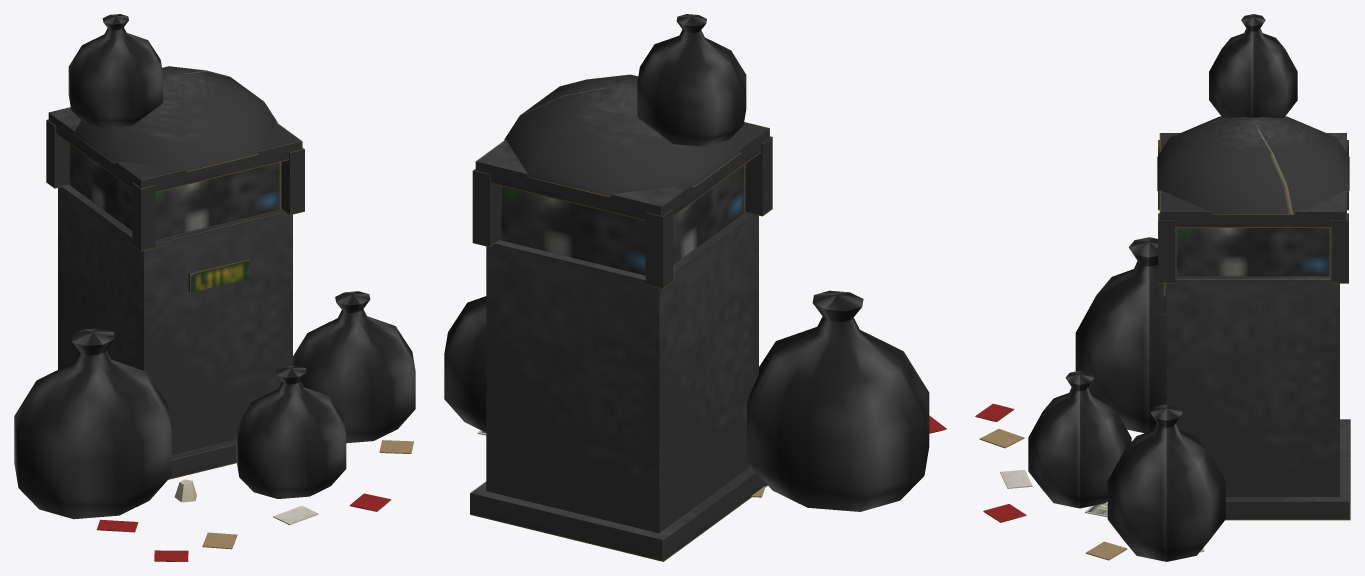
Rendered from litter_bin_full.obj.
3 views of the same model, side by side, from view 1: azimuth 30°, elevation 25°; view 2: azimuth 150°, elevation 25°; view 3: azimuth 270°, elevation 25° (orthographic). The views are drawn at different scales.
Visible parts, largest first — view 1: litter_bin_full; view 2: litter_bin_full; view 3: litter_bin_full.
Part boxes in pixels (x1,y1,x2,y2): litter_bin_full: (14, 14, 415, 561); litter_bin_full: (444, 14, 946, 561); litter_bin_full: (975, 14, 1350, 561).
Bounding box in the file's own units: 1.35 × 1.38 × 1.08.
1 material, 1 textured.
